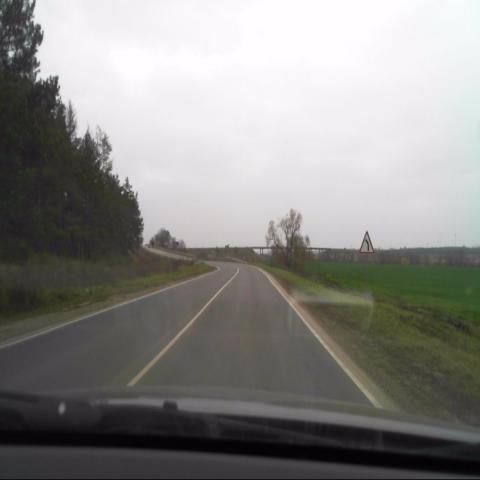1_11_1: (359, 229, 375, 253)
